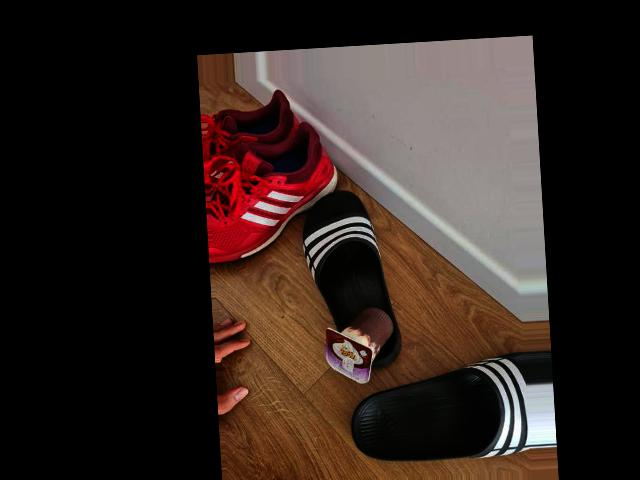milky: (319, 311, 399, 382)
